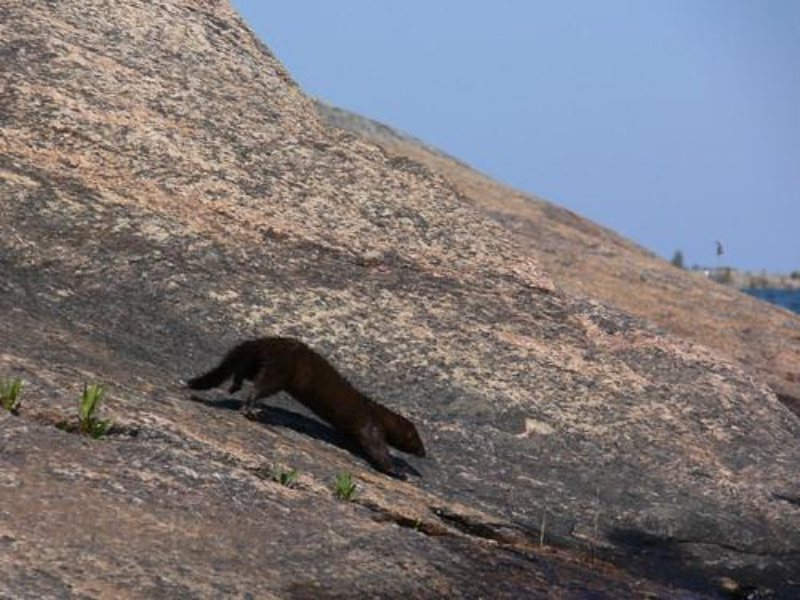minkish: (186, 333, 429, 487)
